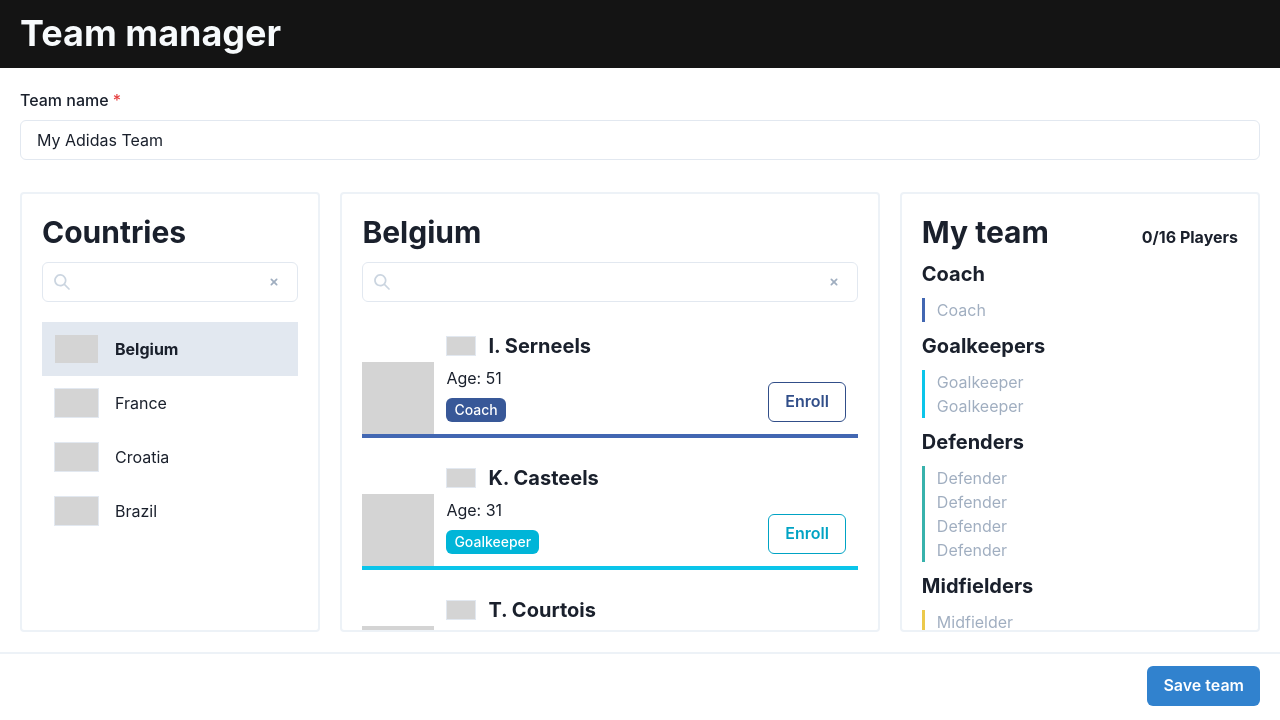
Test case: <ManagerPlayersList /> › should be able to enroll a coach
Expected: the heading "Belgium" is shown, [362,214,481,250]
Click the button named "Enroll I. Serneels.": (807, 402) [768,382,846,422]
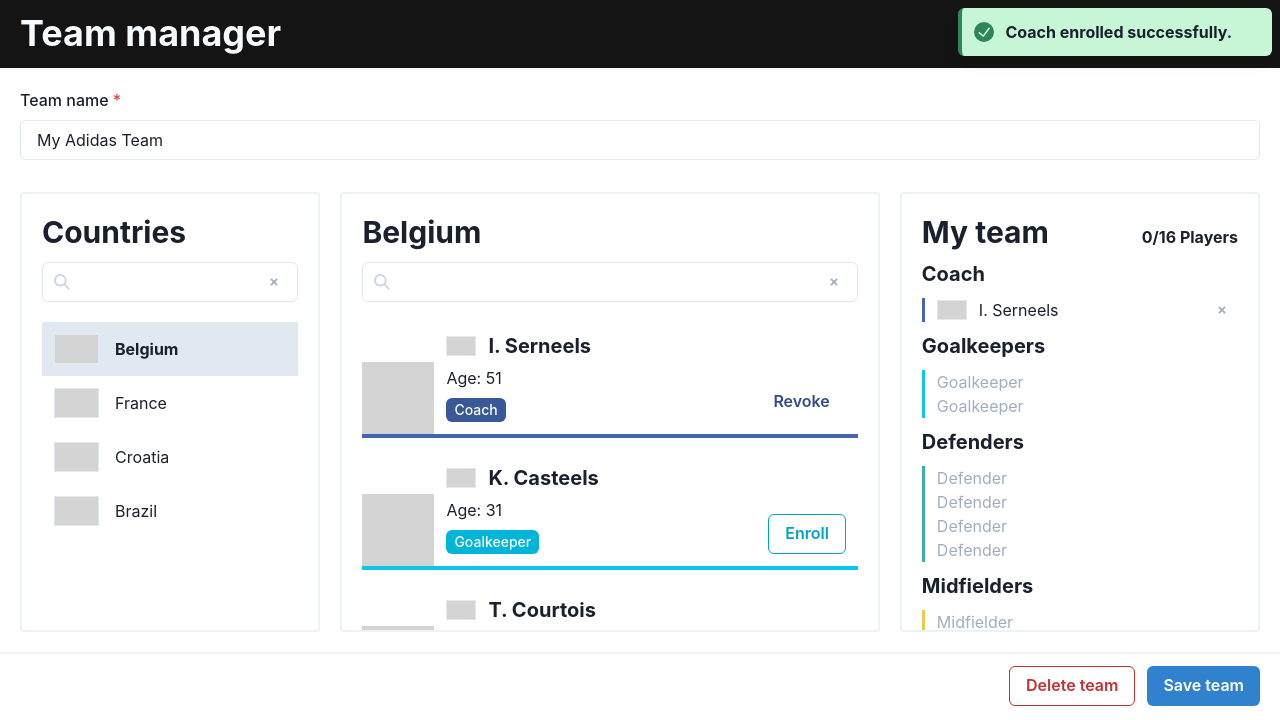
Result: the text "Coach enrolled successfully." is shown at [1006,20,1232,44]
